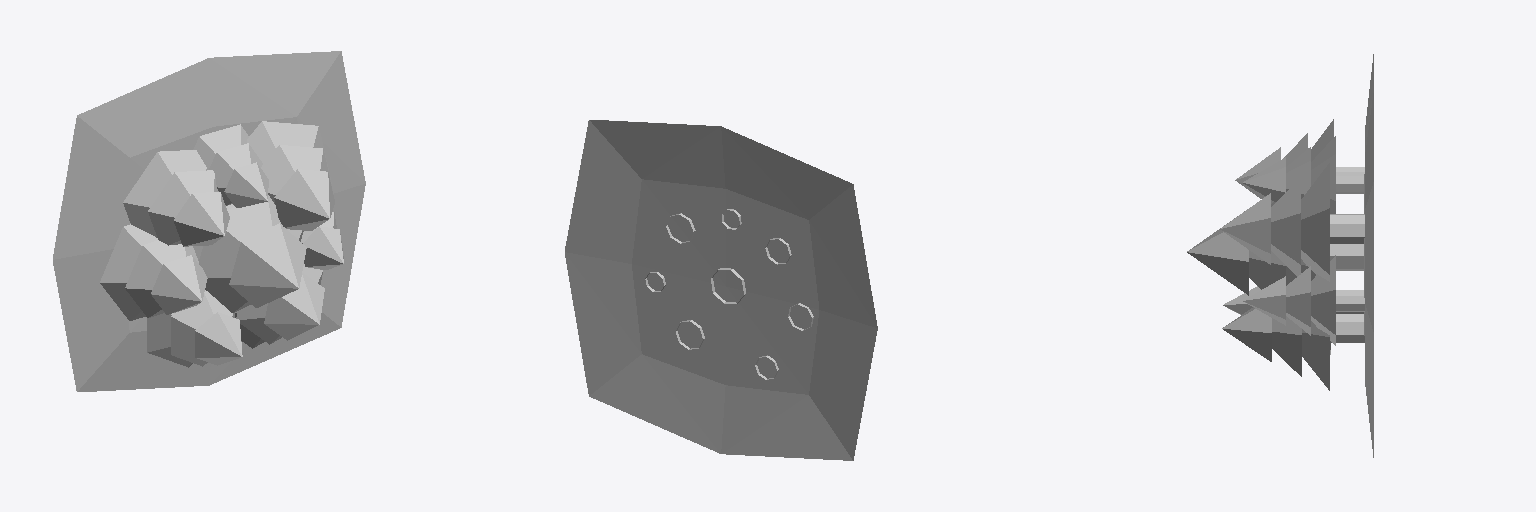
File: thick_forest.obj
The picture shows the model from 3 angles: view 1: azimuth 30°, elevation 25°; view 2: azimuth 150°, elevation 25°; view 3: azimuth 270°, elevation 25°; orthographic projection.
Parts seen in each view (by area): view 1: Plane, Cylinder.004_Cylinder.005, Cylinder.002, Cylinder.005_Cylinder.006, Cylinder.003, Cylinder, Cylinder.006_Cylinder.007, Cylinder.001, Cylinder.007_Cylinder.008; view 2: Plane; view 3: Cylinder.003, Cylinder.001, Cylinder.007_Cylinder.008, Cylinder.004_Cylinder.005, Cylinder.006_Cylinder.007, Plane, Cylinder.002.
Part boxes in pixels (x1,y1,x2,y2): Plane: (53, 51, 365, 391); Cylinder.004_Cylinder.005: (193, 195, 306, 312); Cylinder.002: (123, 150, 229, 246); Cylinder.005_Cylinder.006: (100, 224, 207, 320); Cylinder.003: (247, 121, 334, 230); Cylinder: (147, 290, 242, 367); Cylinder.006_Cylinder.007: (193, 124, 268, 207); Cylinder.001: (235, 264, 324, 348); Cylinder.007_Cylinder.008: (301, 212, 343, 269); Plane: (565, 120, 877, 460); Cylinder.003: (1220, 163, 1364, 281); Cylinder.001: (1222, 307, 1364, 390); Cylinder.007_Cylinder.008: (1243, 255, 1364, 345); Cylinder.004_Cylinder.005: (1187, 202, 1363, 295); Cylinder.006_Cylinder.007: (1243, 136, 1364, 213); Plane: (1364, 54, 1373, 457); Cylinder.002: (1235, 119, 1364, 203).
Bounding box in the file's own units: 1.6 × 1.6 × 0.8272.